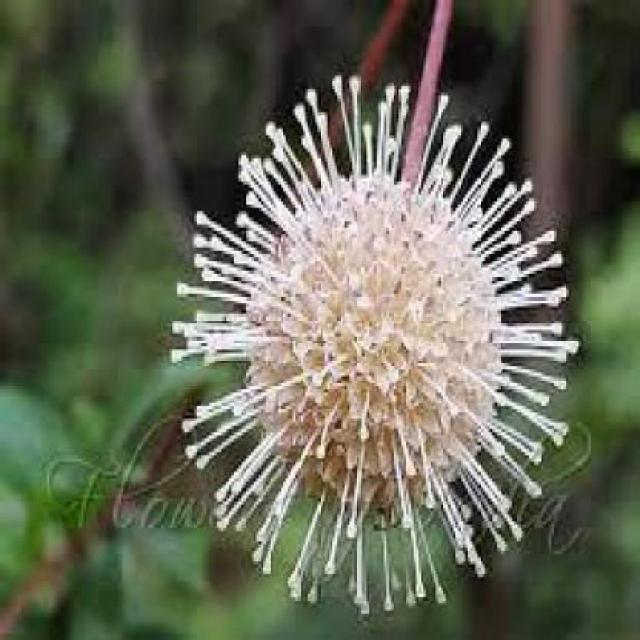flower: (174, 84, 560, 616)
